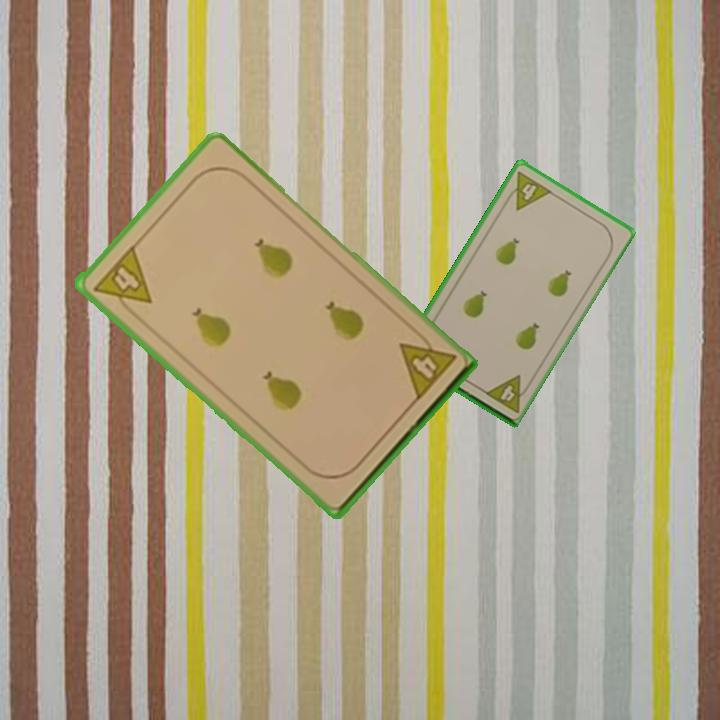4p: (89, 241, 154, 321), (395, 325, 459, 404), (480, 371, 534, 416), (501, 168, 554, 213)
